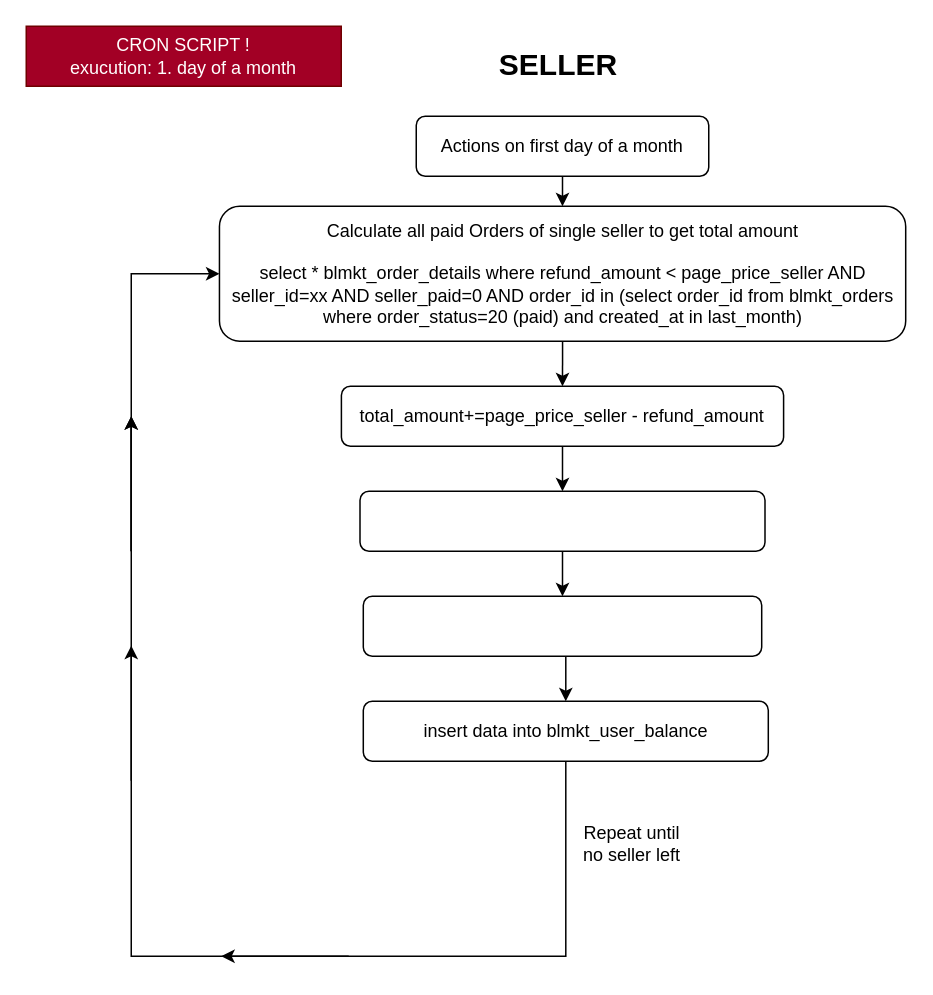
Some shapes in this 933 by 995 pixel diagram are drawn without their labels. The box of each missing label's shape, as (x1, y1, x2, y2) in pixels:
Add total amount to users.balance_seller: (362, 595, 762, 656)
update blmkt_order_details.seller_paid=1: (358, 490, 765, 551)
